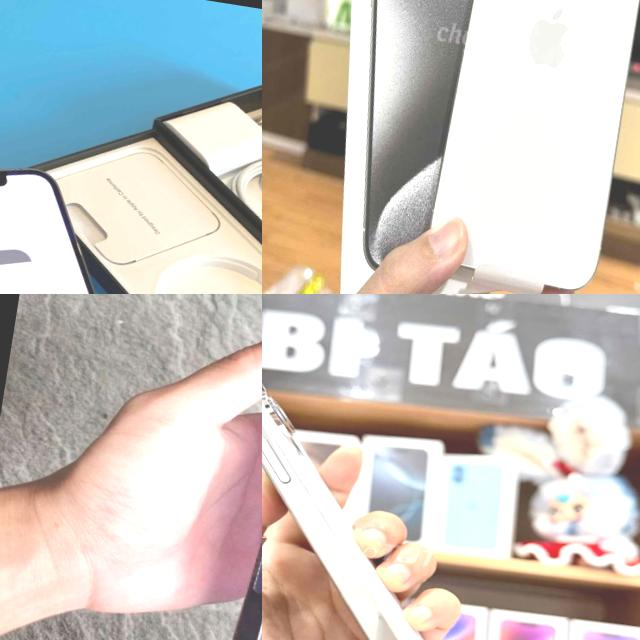gen_12_13: (420, 0, 640, 294), (0, 145, 175, 294)
gen_14: (262, 344, 536, 640), (200, 294, 262, 640)
